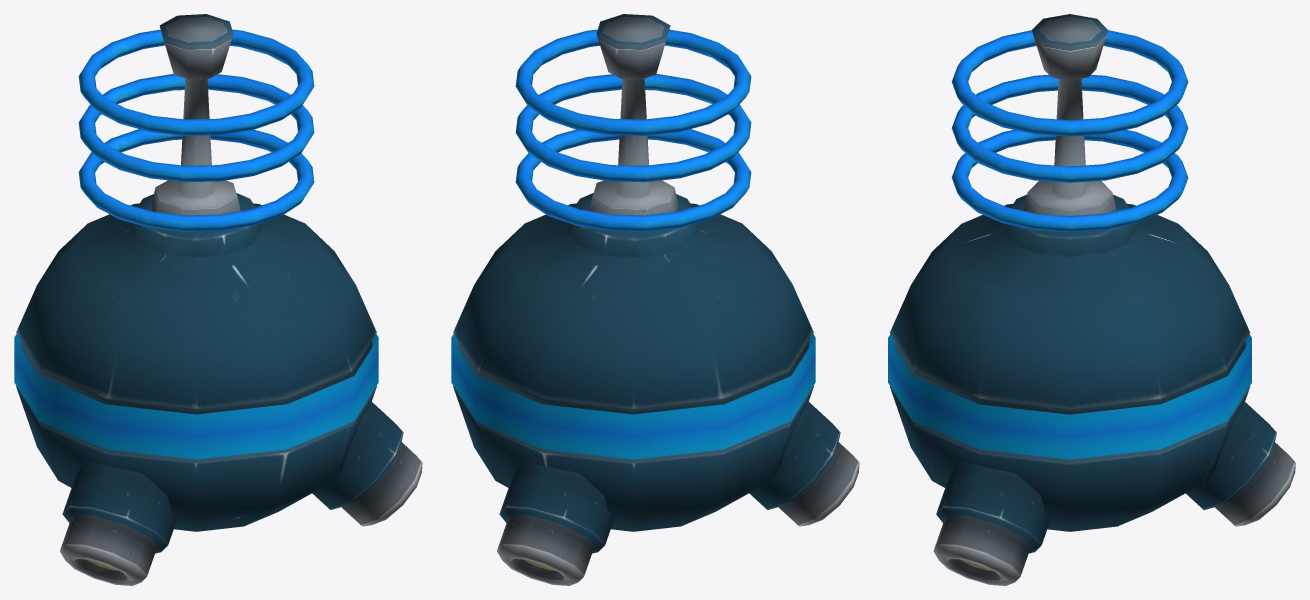
File: Gravity_minusB.obj
3 renders of one model, left to right at view 1: azimuth 30°, elevation 25°; view 2: azimuth 150°, elevation 25°; view 3: azimuth 270°, elevation 25°, orthographic.
Parts seen in each view (by area): view 1: gravity_brick, gravity_ring; view 2: gravity_brick, gravity_ring; view 3: gravity_brick, gravity_ring.
Boxes of the visible parts, bbox=[...] form: gravity_brick: bbox=[16, 14, 422, 585]; gravity_ring: bbox=[14, 29, 378, 459]; gravity_brick: bbox=[453, 14, 859, 585]; gravity_ring: bbox=[451, 29, 815, 459]; gravity_brick: bbox=[890, 14, 1295, 585]; gravity_ring: bbox=[888, 30, 1251, 459].
Size of the model in its own units: 0.7396 by 0.9848 by 0.7406.
2 materials, 2 textured.
